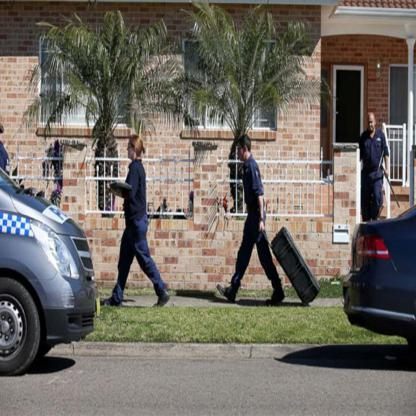face: (238, 144, 247, 161), (128, 141, 135, 159), (368, 116, 375, 131)
